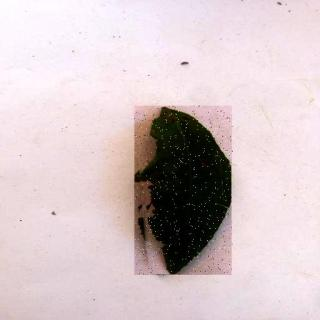Brown Blight: (136, 107, 234, 277)
